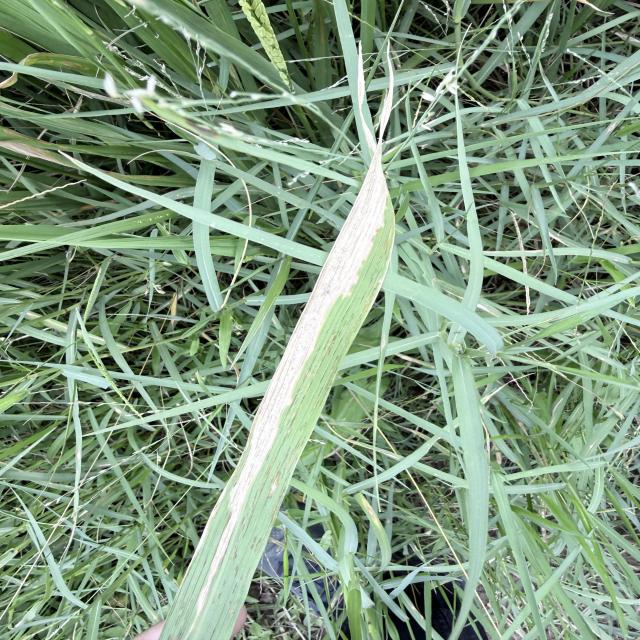Chay bia la: (226, 148, 393, 518)
